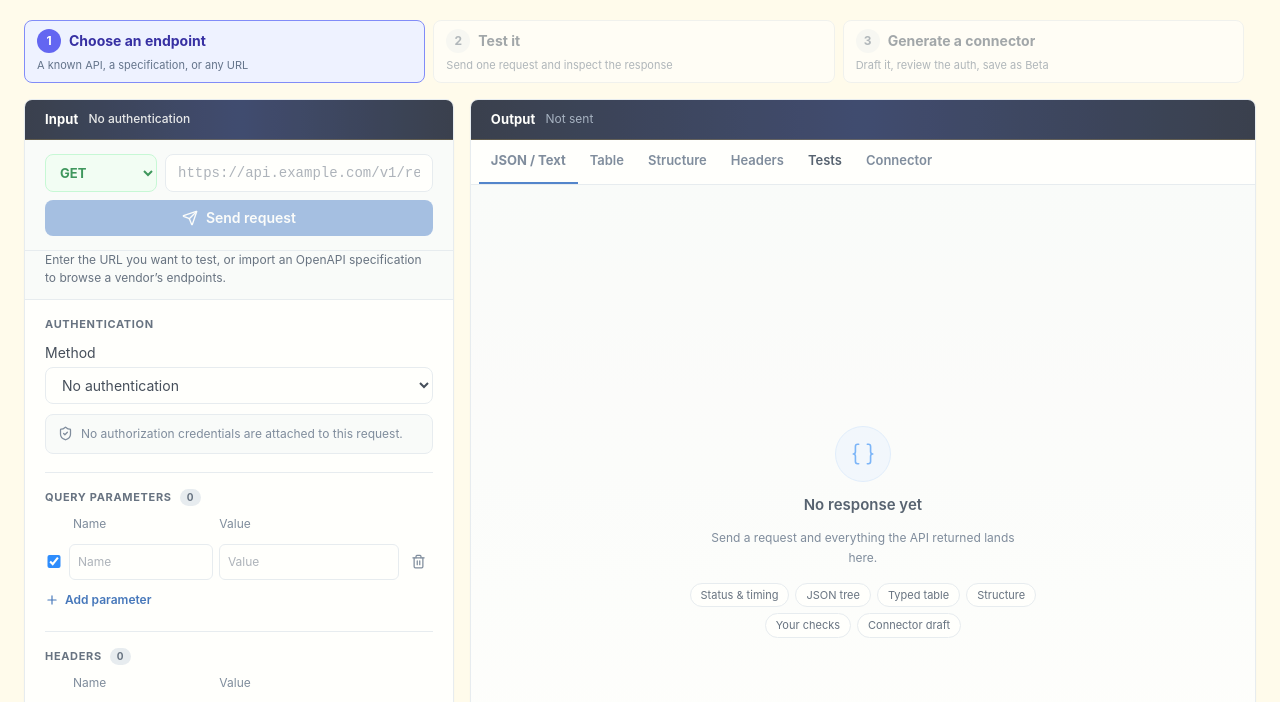
Test: requires confirmation for a write request
Step 1. Type "https://example.com/records" into the field named "Request URL" → x=299, y=173, box [165,154,433,192]
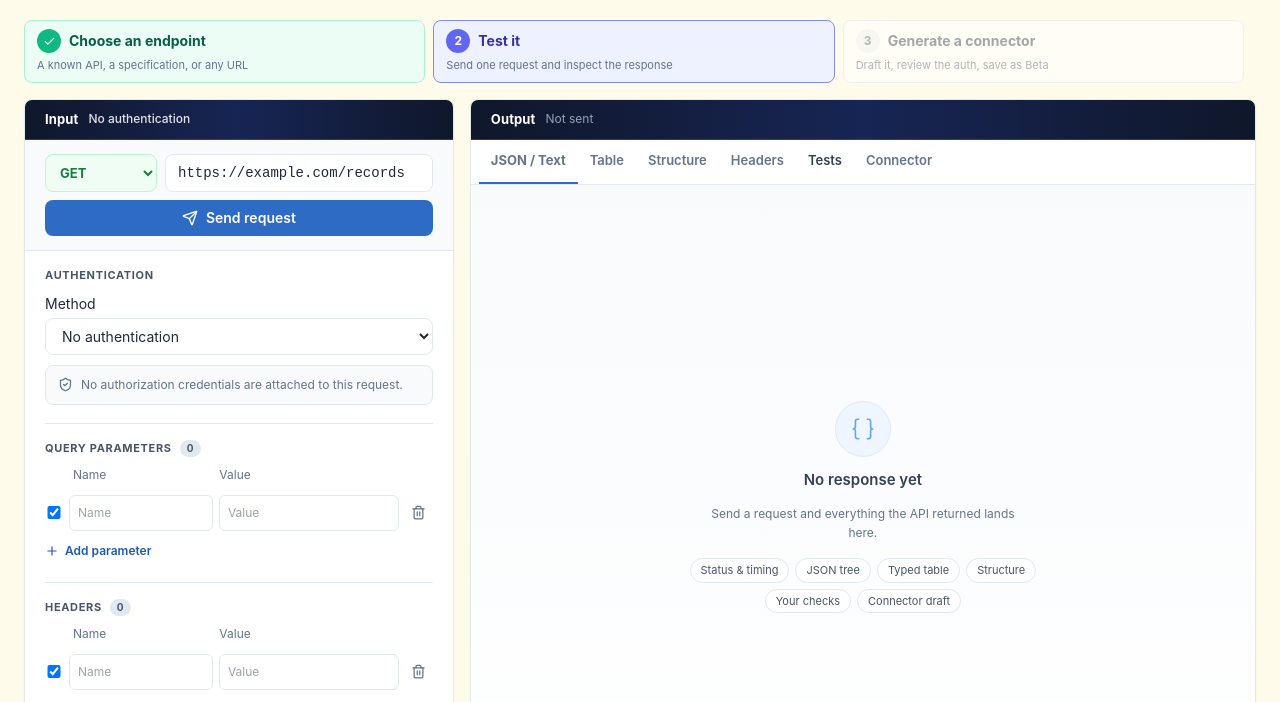
Step 2. Select "DELETE" in the dropdown named "HTTP method" → x=101, y=173, box [45,154,157,192]
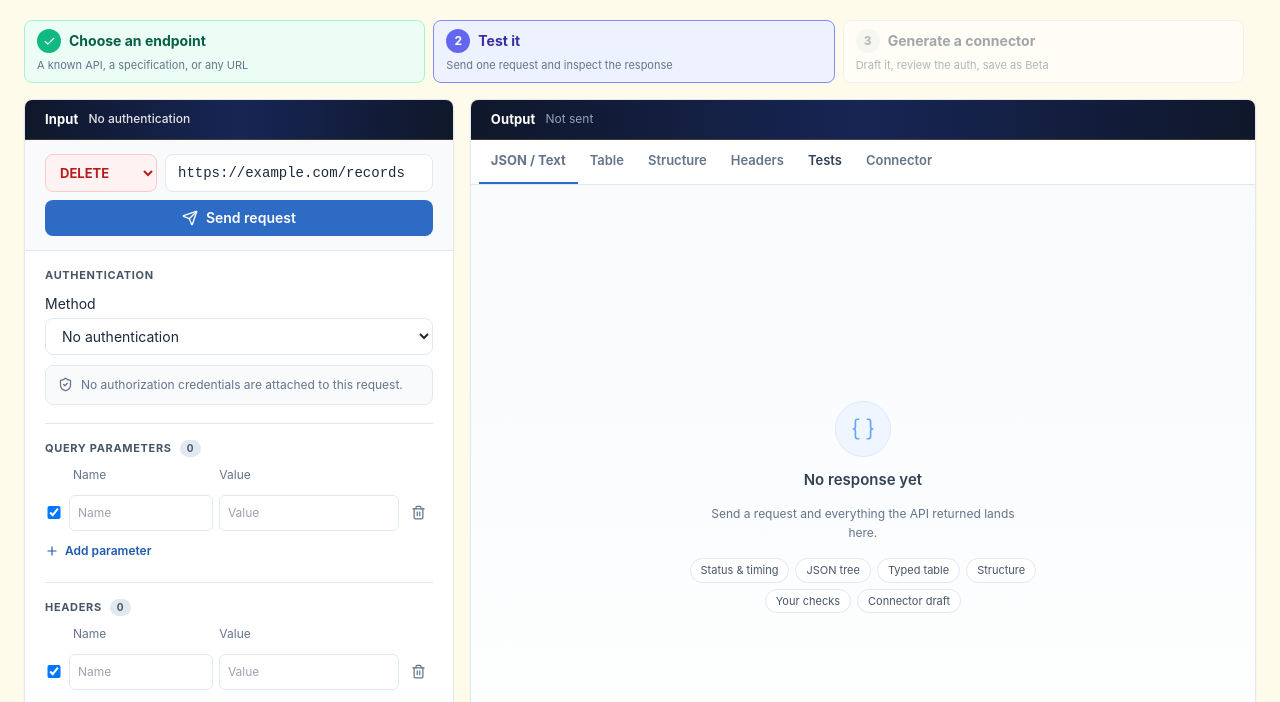
Step 3. Click the button "Send request" → x=239, y=218, box [45,200,433,236]
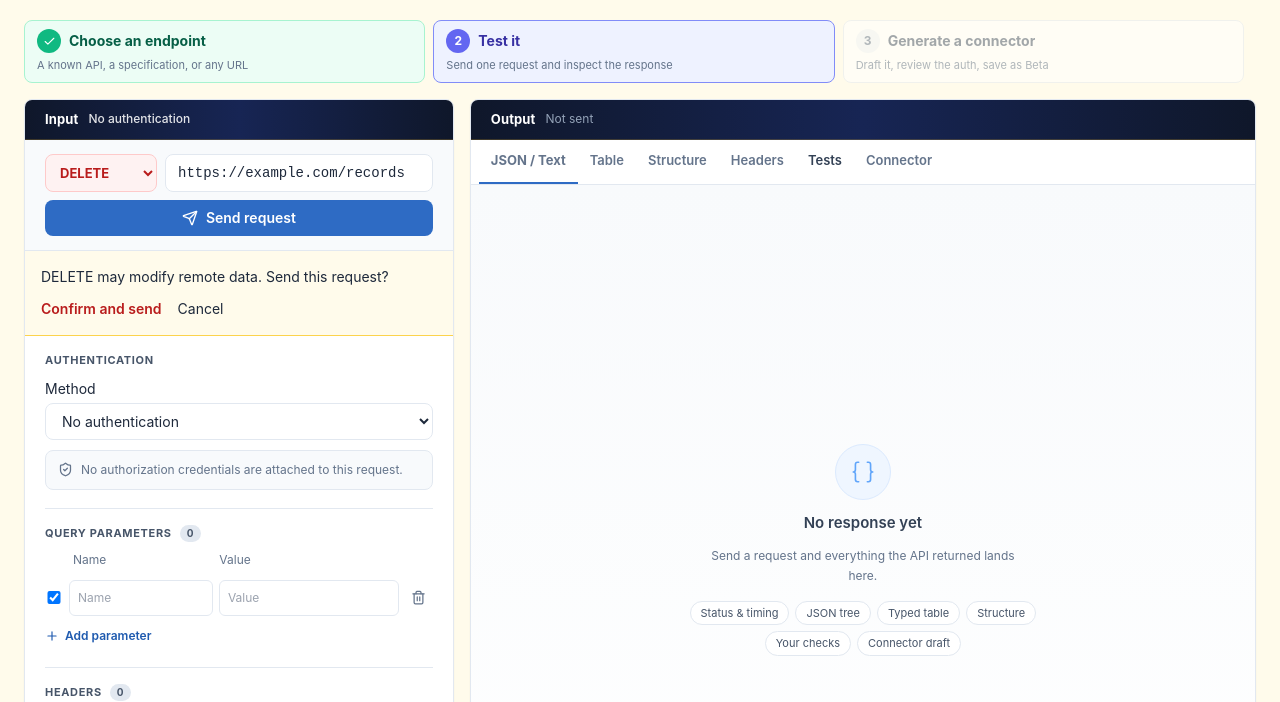
Step 4. Click the button "Confirm and send" → x=101, y=309, box [41,299,162,319]
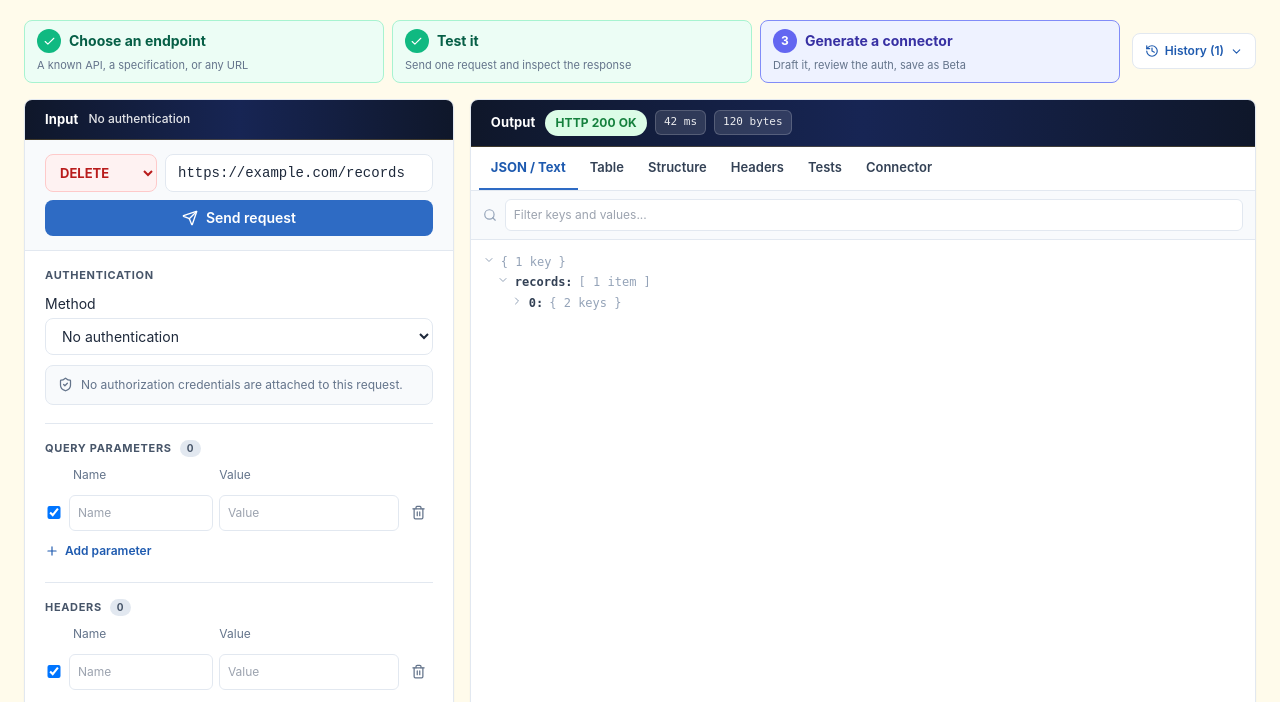
Expected: the text "HTTP 200 OK" is shown, [546,110,647,136]
